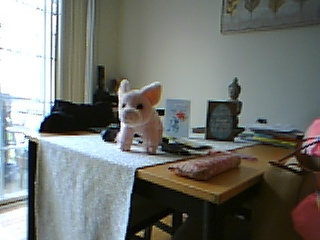piggy: (114, 77, 164, 156)
